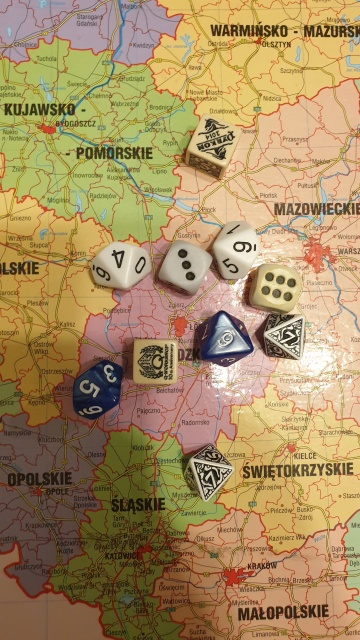d10-4: (85, 238, 150, 293)
d10-5: (63, 360, 124, 423)
d10-6: (208, 326, 242, 357)
d10-9: (208, 212, 260, 283)
d6-3: (158, 237, 208, 294)
d6-6: (247, 262, 306, 313)
d6p-1: (183, 112, 238, 169)
d6p-6: (129, 336, 181, 386)
d8p-7: (185, 448, 235, 504), (263, 309, 311, 363)
